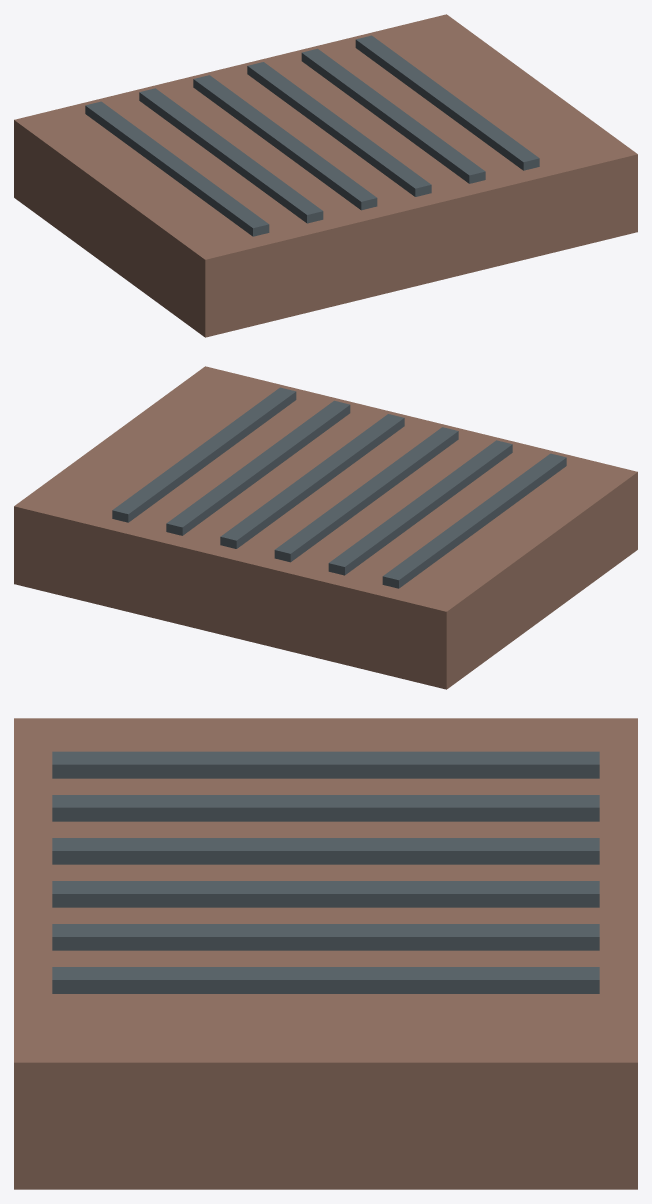
Rendered from BSM-005.glb.
The picture shows the model from 3 angles, top to bottom: view 1: azimuth 30°, elevation 25°; view 2: azimuth 150°, elevation 25°; view 3: azimuth 270°, elevation 25°; orthographic projection. The views are drawn at different scales.
Visible parts, largest first — view 1: 000_Drain_lid, 001_Grate_slit, 002_Grate_slit, 004_Grate_slit, 006_Grate_slit, 003_Grate_slit, 005_Grate_slit; view 2: 000_Drain_lid, 001_Grate_slit, 002_Grate_slit, 004_Grate_slit, 006_Grate_slit, 003_Grate_slit, 005_Grate_slit; view 3: 000_Drain_lid, 001_Grate_slit, 002_Grate_slit, 003_Grate_slit, 004_Grate_slit, 005_Grate_slit, 006_Grate_slit.
Boxes of the visible parts, x1,y1,x2,y2 form: 000_Drain_lid: [14, 14, 637, 337]; 001_Grate_slit: [85, 101, 269, 236]; 002_Grate_slit: [139, 88, 323, 223]; 004_Grate_slit: [247, 62, 431, 196]; 006_Grate_slit: [355, 35, 539, 170]; 003_Grate_slit: [193, 75, 377, 210]; 005_Grate_slit: [301, 48, 485, 183]; 000_Drain_lid: [14, 366, 637, 689]; 001_Grate_slit: [382, 453, 566, 588]; 002_Grate_slit: [328, 440, 512, 575]; 004_Grate_slit: [220, 414, 404, 548]; 006_Grate_slit: [112, 387, 296, 522]; 003_Grate_slit: [274, 427, 458, 562]; 005_Grate_slit: [166, 400, 350, 535]; 000_Drain_lid: [14, 718, 637, 1189]; 001_Grate_slit: [52, 751, 599, 778]; 002_Grate_slit: [52, 795, 599, 821]; 003_Grate_slit: [52, 838, 599, 864]; 004_Grate_slit: [52, 881, 599, 907]; 005_Grate_slit: [52, 924, 599, 950]; 006_Grate_slit: [52, 967, 599, 993].
Size of the model in its own units: 0.64 by 0.122 by 0.49.
